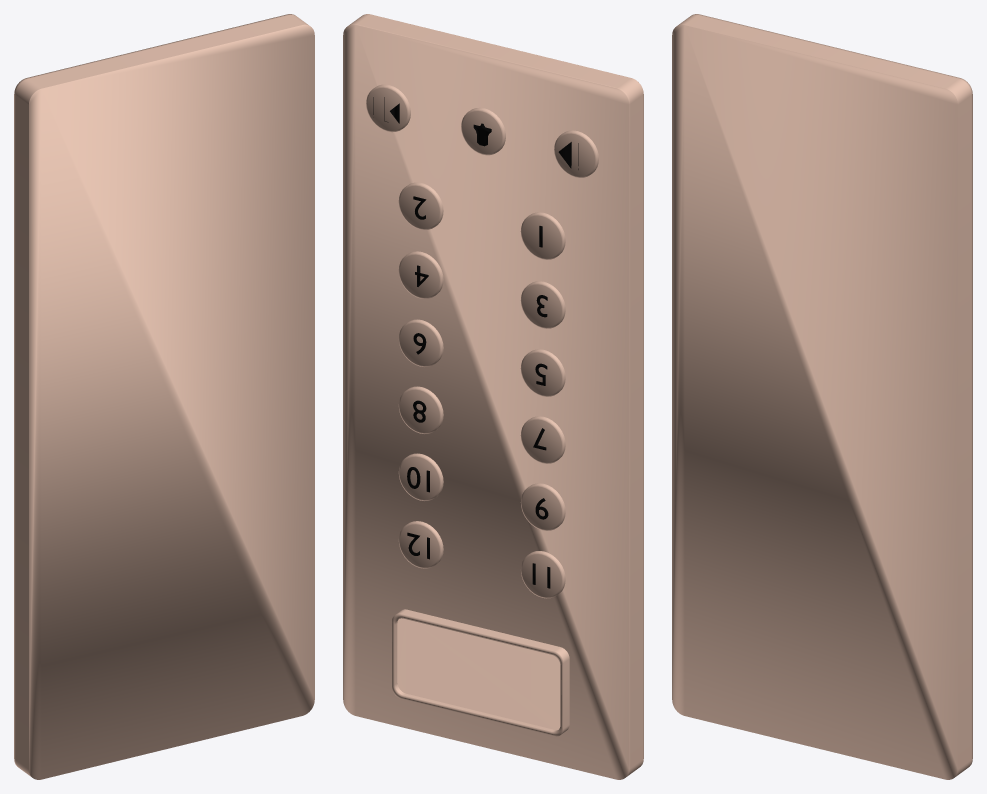
3 views of the same model, side by side, from view 1: azimuth 30°, elevation 25°; view 2: azimuth 150°, elevation 25°; view 3: azimuth 330°, elevation 25° (orthographic).
Parts seen in each view (by area): view 1: imagetostl_mesh0; view 2: imagetostl_mesh0; view 3: imagetostl_mesh0.
Part boxes in pixels (bbox=[...]): imagetostl_mesh0: bbox=[14, 14, 314, 779]; imagetostl_mesh0: bbox=[343, 14, 643, 779]; imagetostl_mesh0: bbox=[672, 14, 972, 779].
Size of the model in its own units: 2.32 by 5.35 by 0.2938.
